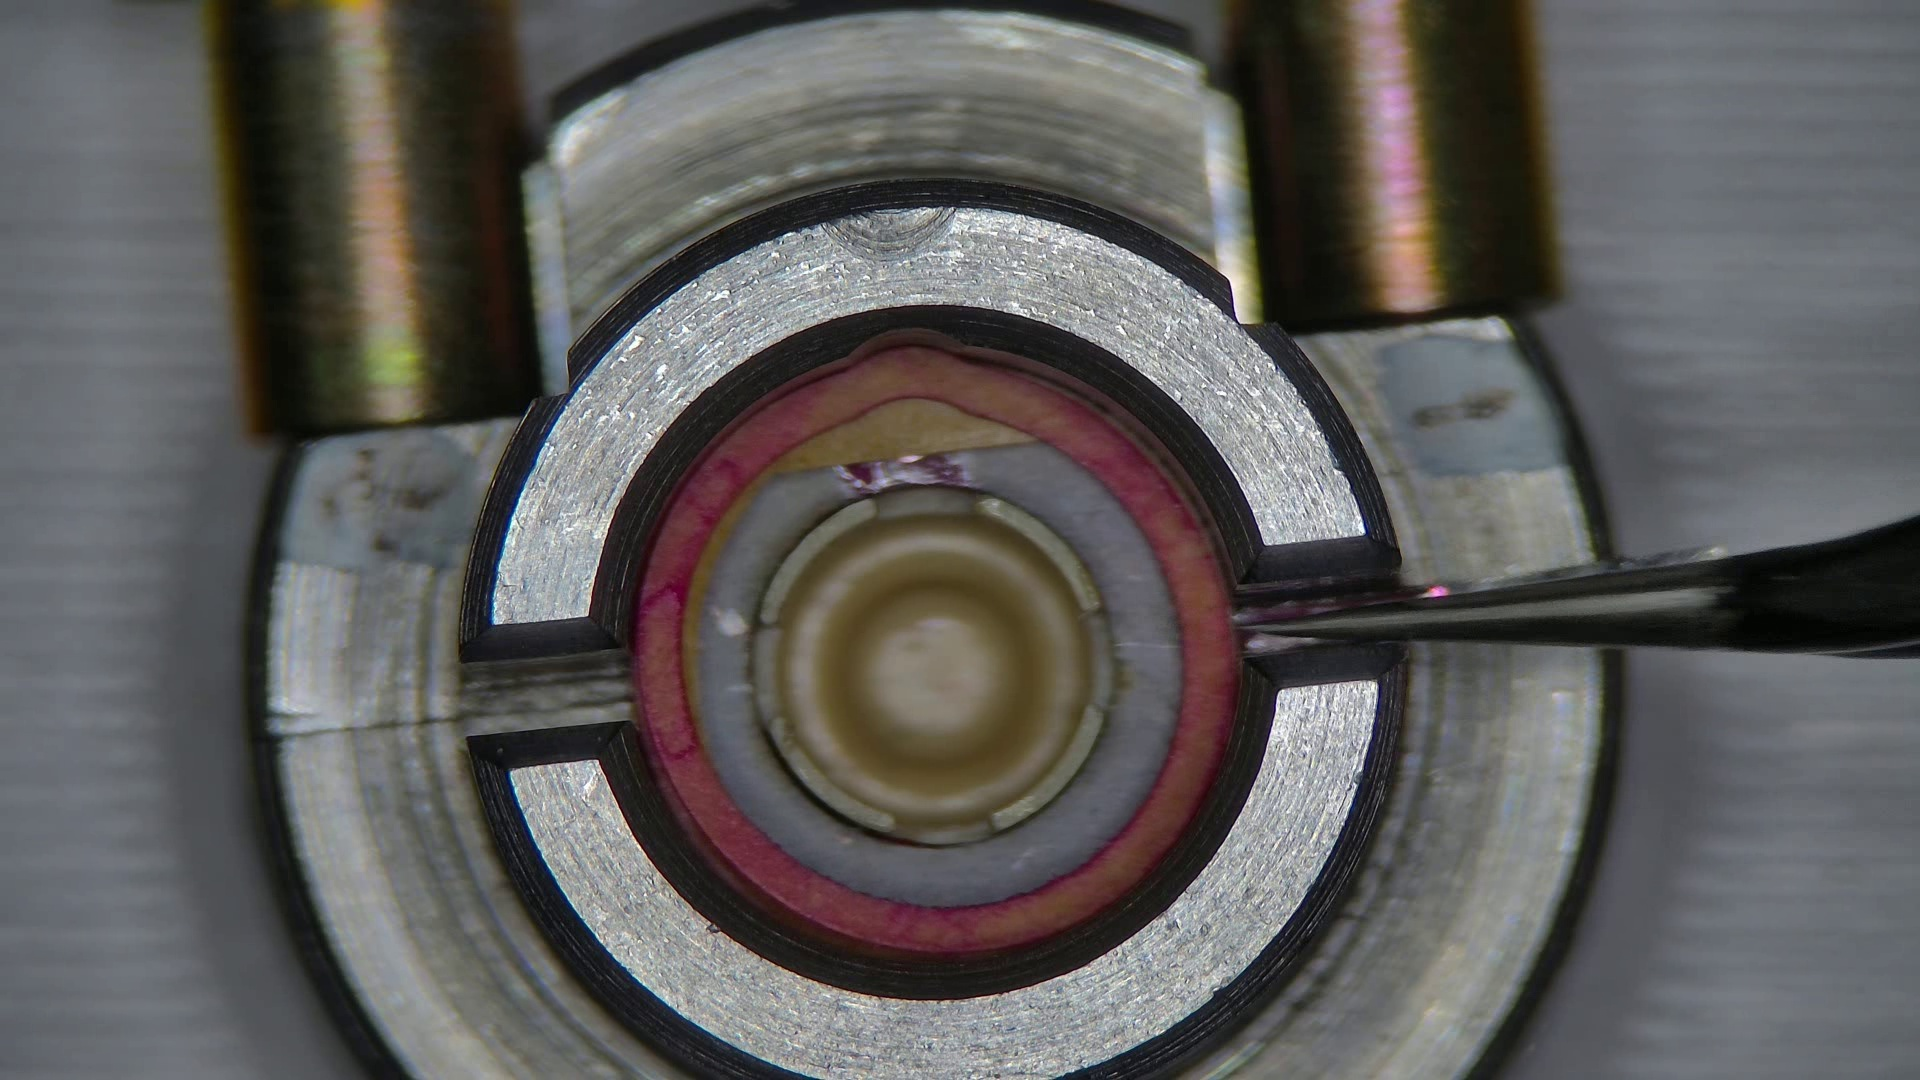GreyOring: (634, 344, 1236, 953)
YellowOring: (694, 448, 1180, 905)
redOring: (683, 400, 1036, 723), (698, 725, 703, 745)
